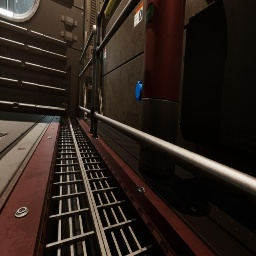NitrogenTank ,: (138, 0, 186, 180)
